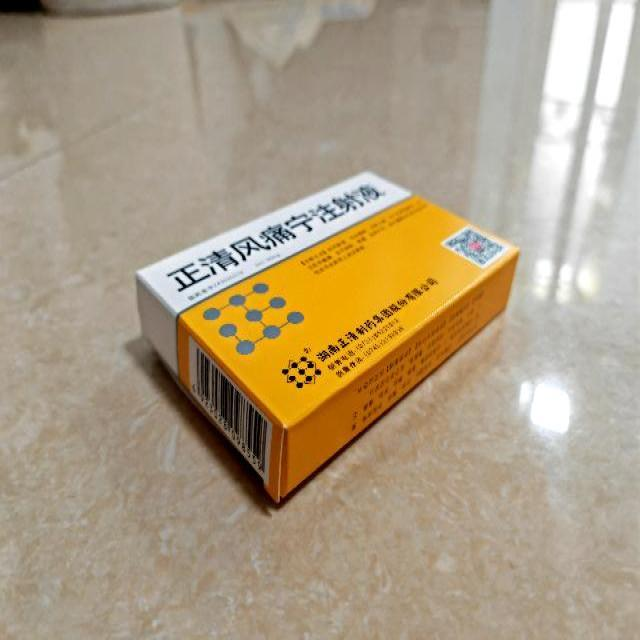box: (136, 172, 522, 504)
